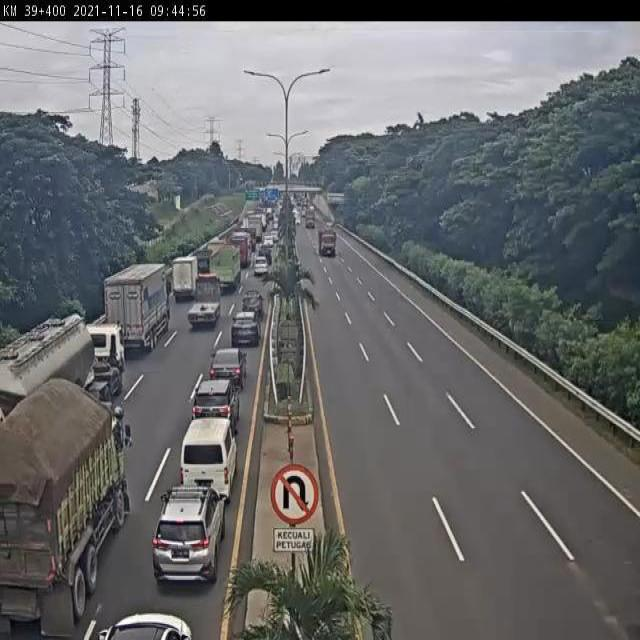ARABA: (152, 488, 224, 584), (188, 382, 236, 446), (207, 345, 244, 388), (229, 309, 261, 348), (240, 290, 267, 322), (250, 252, 271, 280)
KAMYONET: (188, 276, 223, 332), (169, 252, 200, 300)
OTOBUS: (180, 419, 235, 500)
TIR: (0, 377, 133, 628), (0, 312, 123, 453), (106, 264, 173, 352), (207, 242, 243, 294)
